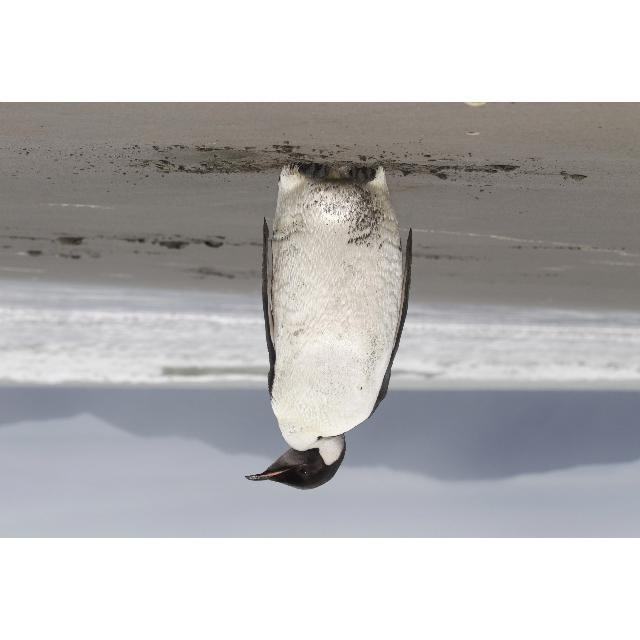penguin: (245, 159, 415, 491)
